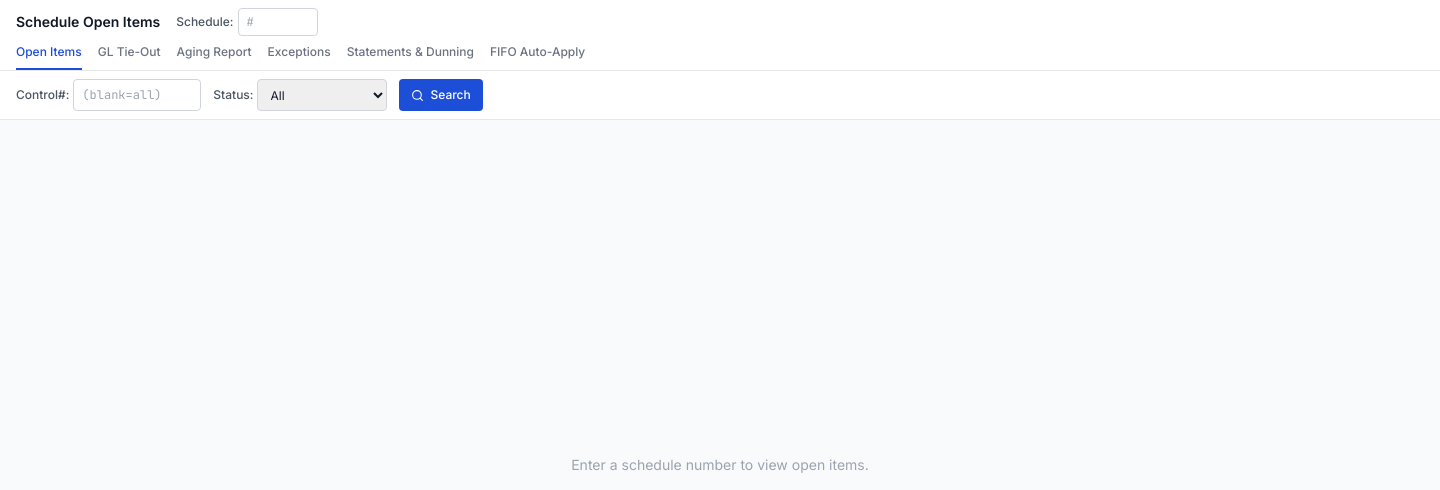
Scenario: ScheduleOpenItems — CE-08 ceremony actions › renders the Exceptions tab and lists open exceptions
The width and height of the screenshot is (1440, 490).
Click the button with test id "exceptions-tab-button" at x=299, y=57, box x1=268 y1=44 x2=331 y2=70
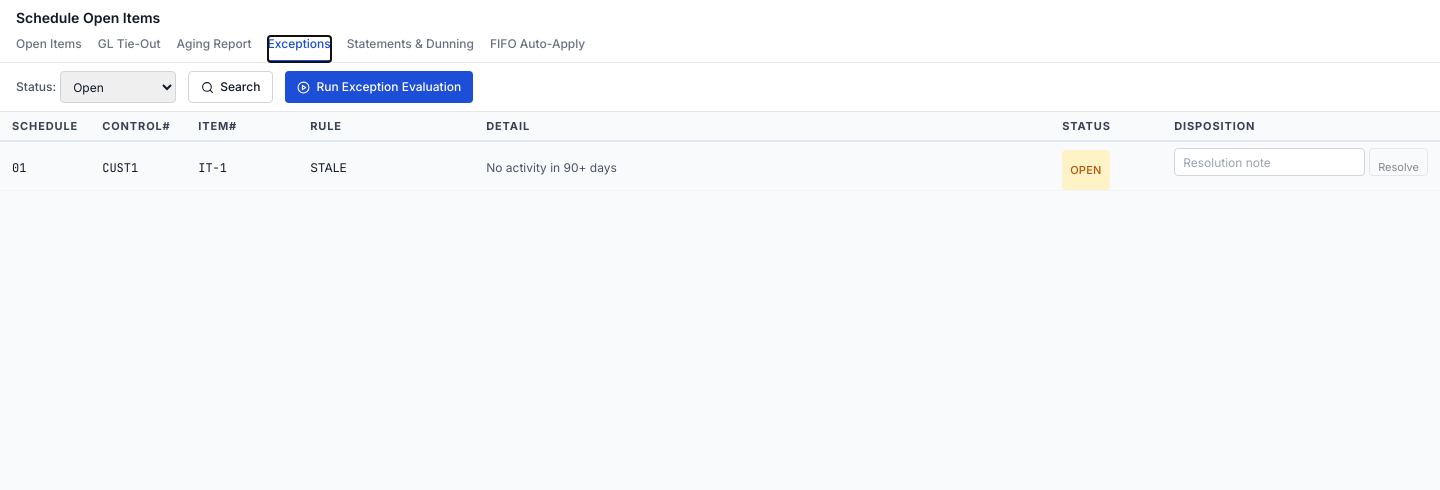
Check: the text "STALE" is shown, box x1=298 y1=141 x2=474 y2=190
Check: the button with test id "disposition-button-exc-1" is disabled, box x1=1369 y1=148 x2=1428 y2=176
